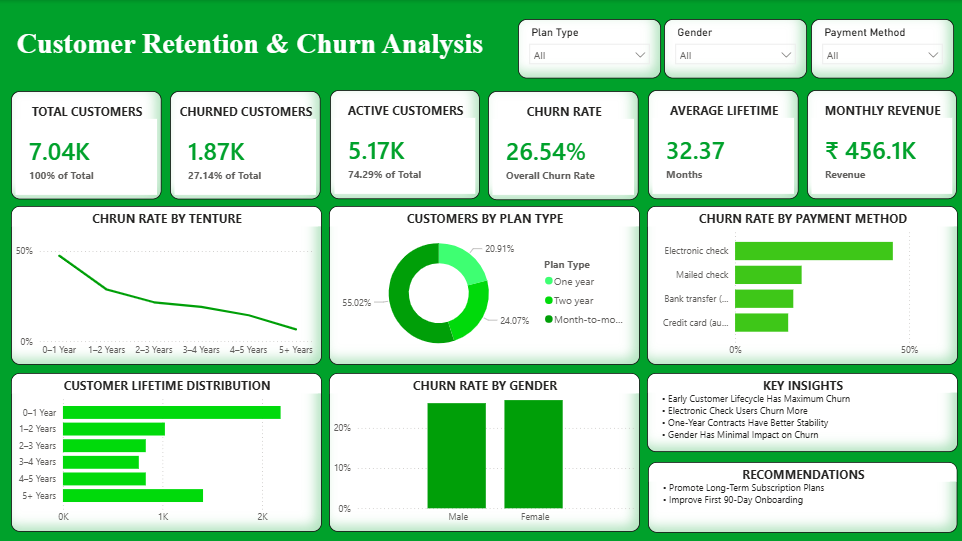

The dashboard page shown, as its layout file describes it:
{"tool":"powerbi","page":{"name":"Page 1","canvas":[1280,720],"ordinal":0},"visuals":[{"type":"textbox","box":[17.6,32.2,661.5,79],"z":0},{"type":"cardVisual","title":"TOTAL CUSTOMERS","fields":{"Data":["Table.TOTAL CUSTOMERS"]},"box":[14.6,120.5,200,144.5],"z":1000},{"type":"lineChart","title":"CHRUN RATE BY TENTURE","fields":{"Y":["Table.Churn Rate"],"Category":["Table.Customer LifeBracket"]},"box":[14.6,273.7,412.7,210.7],"z":2000},{"type":"cardVisual","title":"CHURNED CUSTOMERS","fields":{"Data":["Table.Churned Customers"]},"box":[226.2,120.5,200,144.5],"z":3000},{"type":"donutChart","title":"CUSTOMERS BY PLAN TYPE","fields":{"Category":["Table.Contract"],"Y":["Table.Total Customers"]},"box":[436.8,273.7,412.7,210.7],"z":4000},{"type":"cardVisual","title":"AVERAGE LIFETIME","fields":{"Data":["CustomerChurn.AVERAGE LIFETIME"]},"box":[860.5,119,200.5,144.9],"z":5000},{"type":"columnChart","title":"CHURN RATE BY GENDER","fields":{"Category":["Table.Gender"],"Y":["Table.Churn Rate"]},"box":[436.8,496.1,412.7,210.7],"z":6000},{"type":"cardVisual","title":"CHURN RATE","fields":{"Data":["Table.Churn Rate"]},"box":[648.4,120.4,200.5,144.9],"z":7000},{"type":"barChart","title":"CUSTOMER LIFETIME DISTRIBUTION","fields":{"Y":["Table.Total Customers"],"Category":["Table.Customer LifeBracket"]},"box":[14.6,496.1,412.7,210.7],"z":8000},{"type":"cardVisual","title":"ACTIVE CUSTOMERS","fields":{"Data":["Table.Active Customers"]},"box":[437.8,119,199,144.9],"z":9000},{"type":"slicer","fields":{"Values":["Table.Contract"]},"box":[687.8,24.9,190.2,79],"z":10000},{"type":"cardVisual","title":"MONTHLY REVENUE","fields":{"Data":["Table.Monthly Revenue"]},"box":[1072.1,119,199,144.9],"z":11000},{"type":"slicer","fields":{"Values":["Table.Payment Method"]},"box":[1077.1,24.9,190.2,79],"z":12000},{"type":"slicer","fields":{"Values":["Table.Gender"]},"box":[882.4,24.9,190.2,79],"z":13000},{"type":"textbox","title":"KEY INSIGHTS","box":[859,496.1,412.7,105.4],"z":14000},{"type":"textbox","title":"RECOMMENDATIONS","box":[860.5,613.2,411.2,93.7],"z":15000},{"type":"barChart","title":"CHURN RATE BY PAYMENT METHOD","fields":{"Y":["CustomerChurn.CHURN RATE"],"Category":["CustomerChurn.Payment Method"]},"box":[859,273.7,412.7,210.7],"z":16000}]}

Visuals, with their boxes in screenshot pixels (x1, y1, x2, y2), scaled from the page's 1280x720 canvas onto the 962x541 screenshot:
textbox: 13,24,510,84
"TOTAL CUSTOMERS" cardVisual: 11,91,161,199
"CHRUN RATE BY TENTURE" lineChart: 11,206,321,364
"CHURNED CUSTOMERS" cardVisual: 170,91,320,199
"CUSTOMERS BY PLAN TYPE" donutChart: 328,206,638,364
"AVERAGE LIFETIME" cardVisual: 647,89,797,198
"CHURN RATE BY GENDER" columnChart: 328,373,638,531
"CHURN RATE" cardVisual: 487,90,638,199
"CUSTOMER LIFETIME DISTRIBUTION" barChart: 11,373,321,531
"ACTIVE CUSTOMERS" cardVisual: 329,89,479,198
slicer - Table.Contract: 517,19,660,78
"MONTHLY REVENUE" cardVisual: 806,89,955,198
slicer - Table.Payment Method: 810,19,952,78
slicer - Table.Gender: 663,19,806,78
"KEY INSIGHTS" textbox: 646,373,956,452
"RECOMMENDATIONS" textbox: 647,461,956,531
"CHURN RATE BY PAYMENT METHOD" barChart: 646,206,956,364
